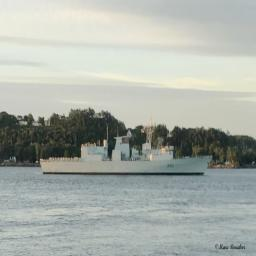Fragata: (39, 111, 216, 179)
